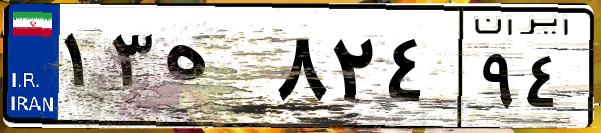1: (57, 26, 110, 100)
2: (330, 28, 385, 110)
3: (110, 28, 158, 98)
4: (385, 28, 445, 110), (525, 38, 570, 115)
8: (270, 28, 330, 110)
9: (475, 38, 525, 113)
ه: (158, 20, 270, 120)
